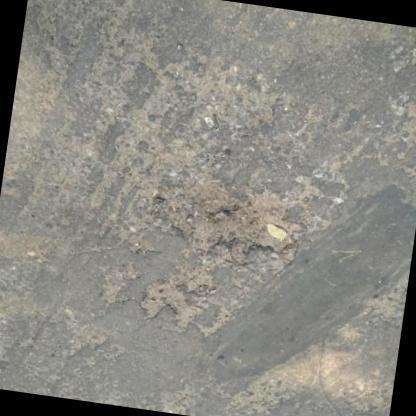pothole: (182, 182, 312, 268), (136, 266, 232, 340)
